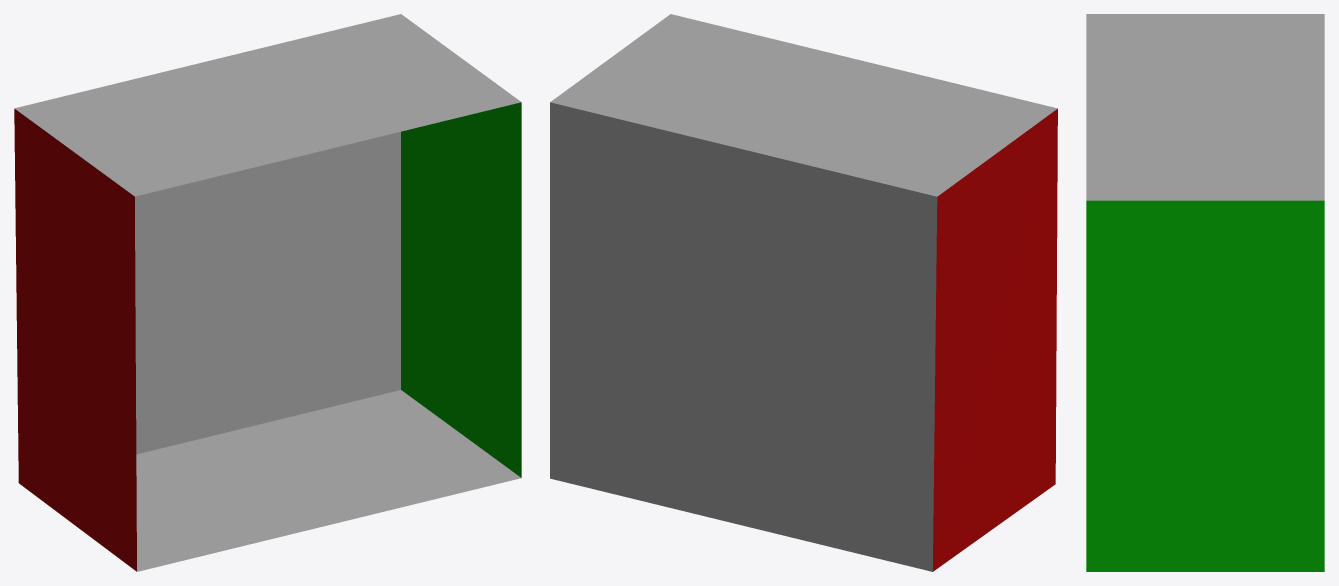
The model's file is CornellBox.normalized.glb.
3 renders of one model, left to right at view 1: azimuth 30°, elevation 25°; view 2: azimuth 150°, elevation 25°; view 3: azimuth 270°, elevation 25°, orthographic.
Visible parts, largest first — view 1: cbox-shell; view 2: cbox-shell; view 3: cbox-shell.
Part boxes in pixels (box(x1,y1,x2,y2)): cbox-shell: box(14, 14, 521, 571); cbox-shell: box(550, 14, 1057, 571); cbox-shell: box(1086, 14, 1324, 571).
Bounding box in the file's own units: 2.52 × 2.34 × 1.36.
